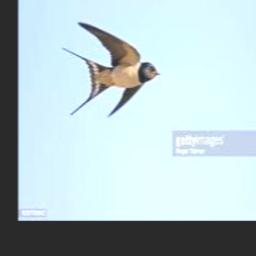Swallow: (62, 21, 160, 117)
